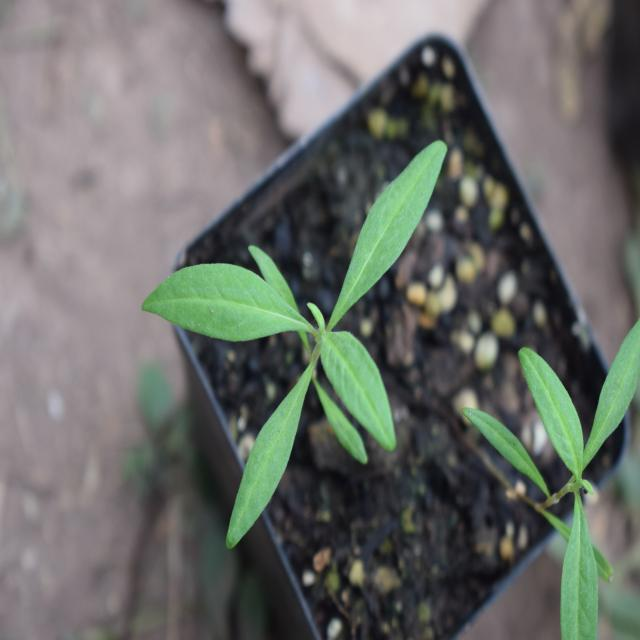white_smart_weed: (153, 118, 458, 548)
